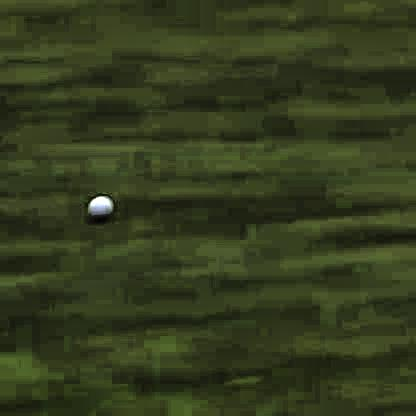golfball: (85, 190, 113, 220)
